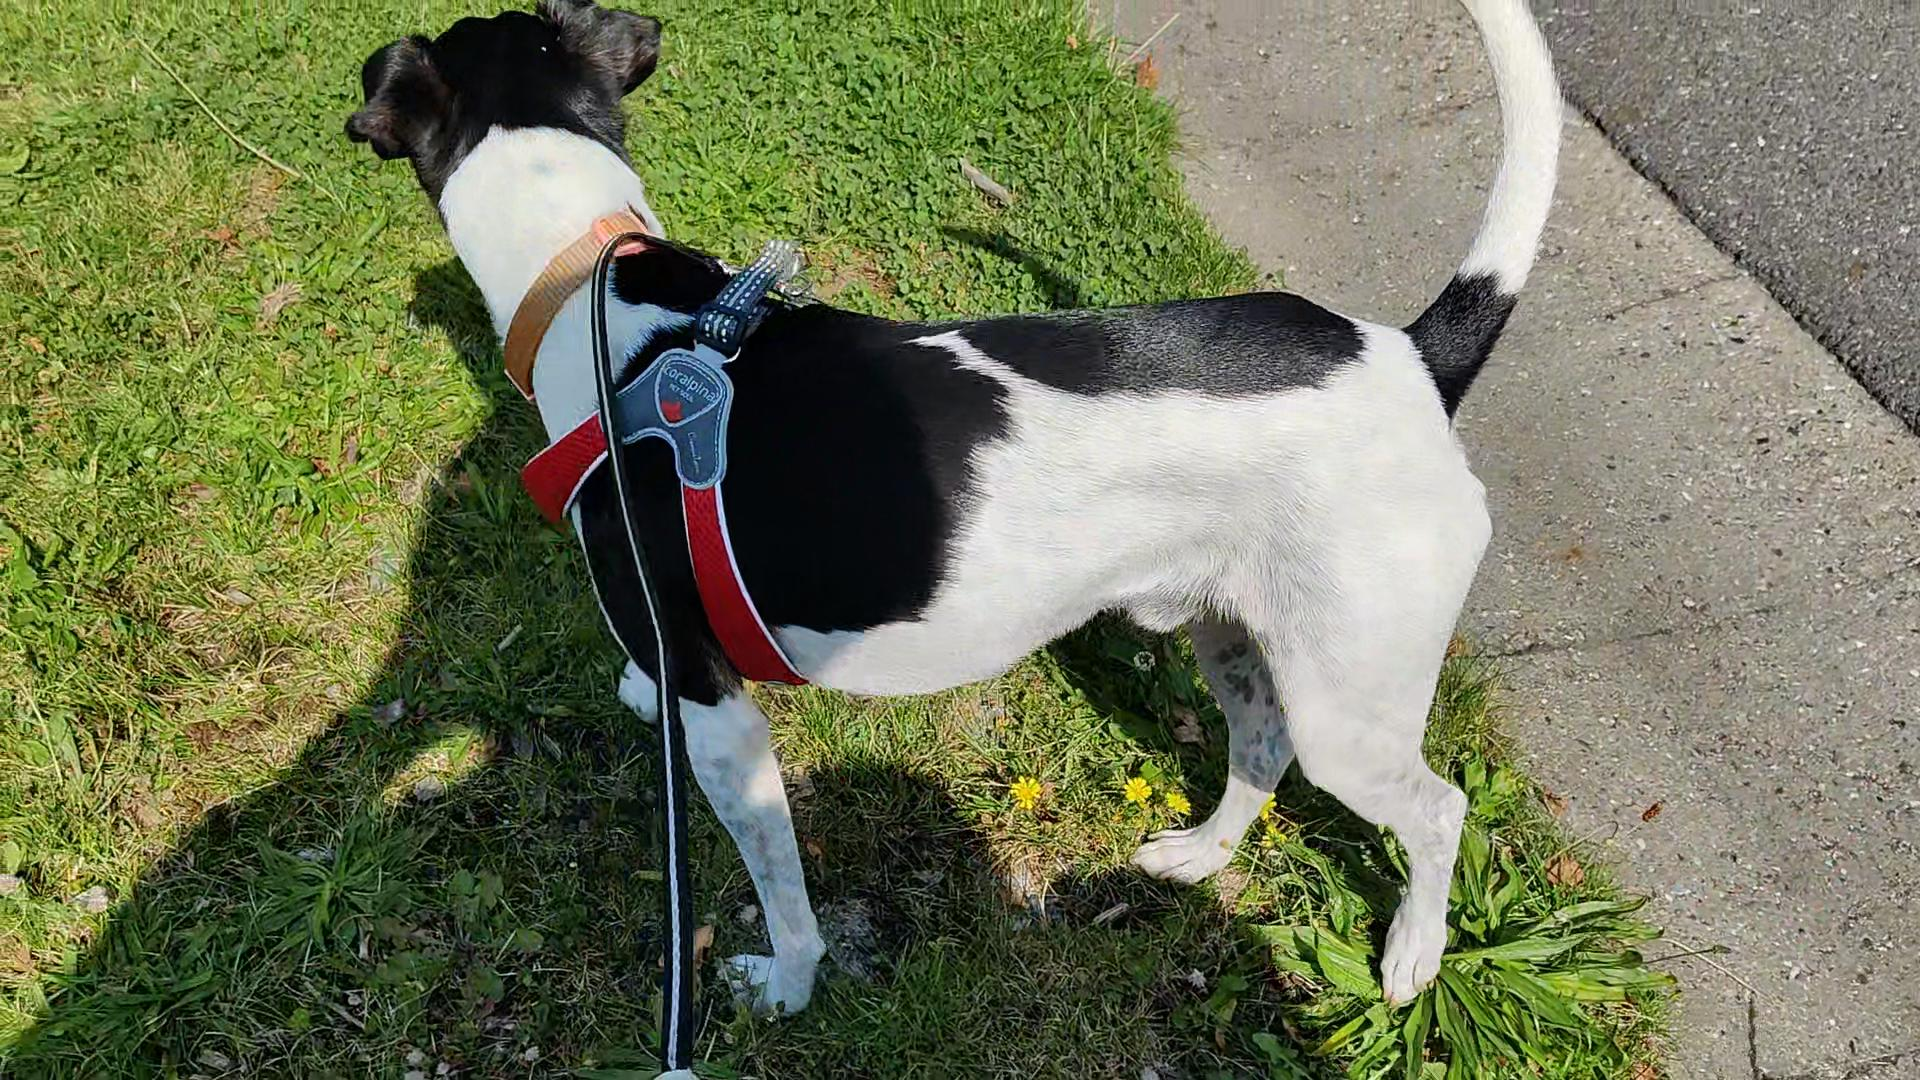Dog: (342, 0, 1575, 1015)
